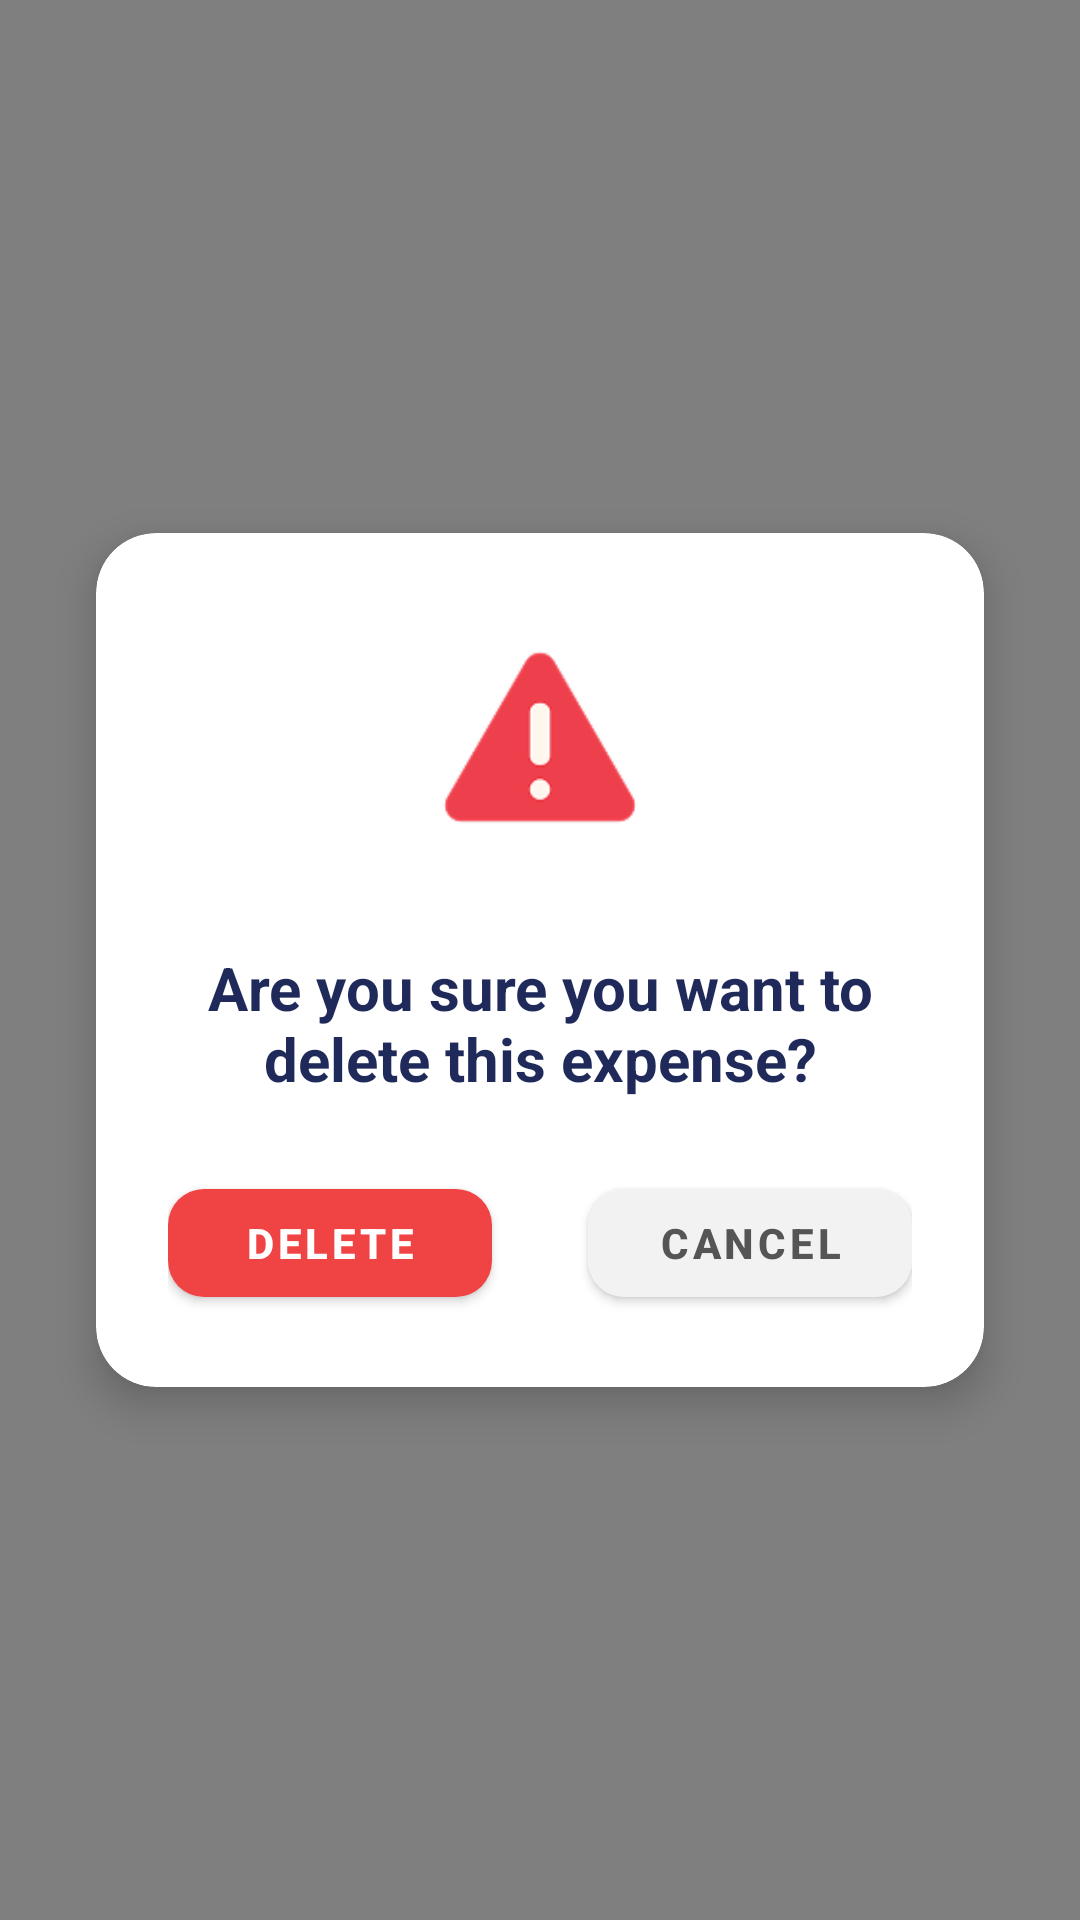

Named icons in this screenshot (1080px×1920px) and their centers, (x=x, y=y):
Delete Warning: (x=540, y=737)
